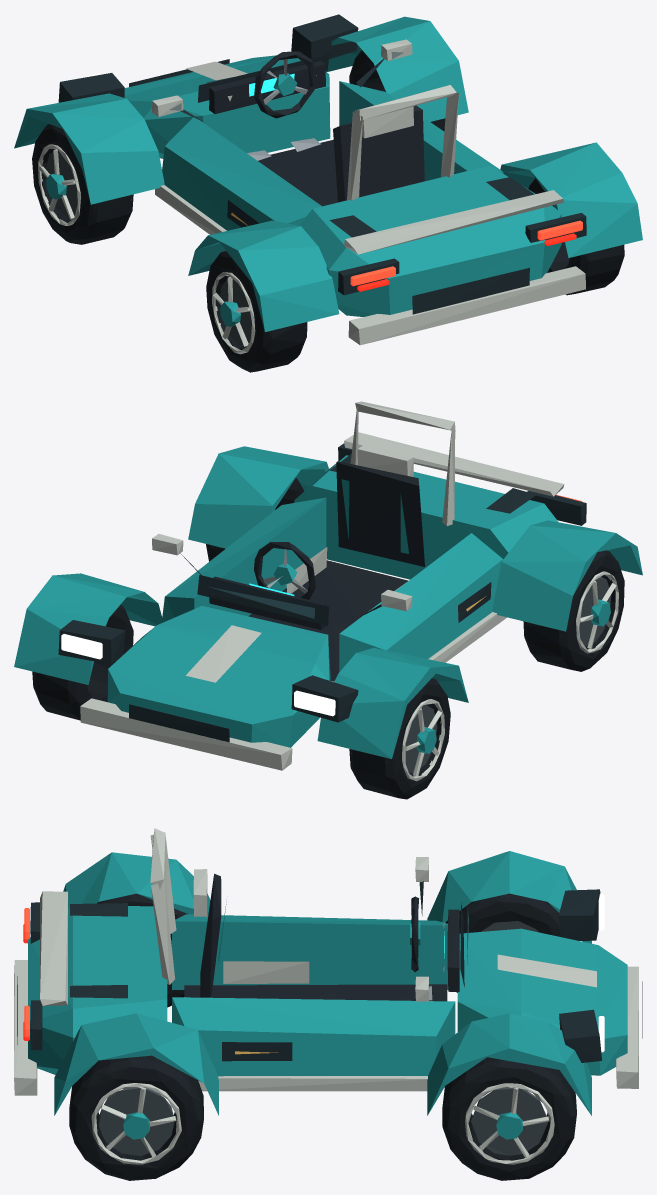
Rendered from pulse_lod1.glb.
3 views of the same model, one above another, from view 1: azimuth 30°, elevation 25°; view 2: azimuth 150°, elevation 25°; view 3: azimuth 270°, elevation 25° (orthographic). The views are drawn at different scales.
Parts seen in each view (by area): view 1: body_mesh, wheel_fl, wheel_rl, wheel_rr, steering_wheel, light_tail_mesh, wheel_fr; view 2: body_mesh, wheel_rl, wheel_fl, wheel_fr, steering_wheel, light_head_mesh; view 3: body_mesh, wheel_rr, wheel_fr, wheel_fl, wheel_rl, steering_wheel.
Boxes of the visible parts, x1=… form: body_mesh: x1=14, y1=14, x2=642, y2=345; wheel_fl: x1=32, y1=124, x2=133, y2=244; wheel_rl: x1=206, y1=251, x2=307, y2=372; wheel_rr: x1=528, y1=178, x2=624, y2=295; steering_wheel: x1=254, y1=51, x2=316, y2=118; light_tail_mesh: x1=350, y1=220, x2=582, y2=286; wheel_fr: x1=349, y1=50, x2=445, y2=131; body_mesh: x1=14, y1=401, x2=642, y2=770; wheel_rl: x1=523, y1=550, x2=624, y2=671; wheel_fl: x1=349, y1=678, x2=450, y2=799; wheel_fr: x1=32, y1=604, x2=133, y2=720; steering_wheel: x1=254, y1=542, x2=315, y2=599; light_head_mesh: x1=61, y1=634, x2=335, y2=716; body_mesh: x1=14, y1=828, x2=642, y2=1115; wheel_rr: x1=69, y1=1055, x2=203, y2=1180; wheel_fr: x1=442, y1=1057, x2=576, y2=1180; wheel_fl: x1=445, y1=893, x2=560, y2=992; wheel_rl: x1=97, y1=893, x2=187, y2=1007; steering_wheel: x1=410, y1=896, x2=420, y2=972.
Size of the model in its own units: 1.98 by 1.11 by 2.66.
